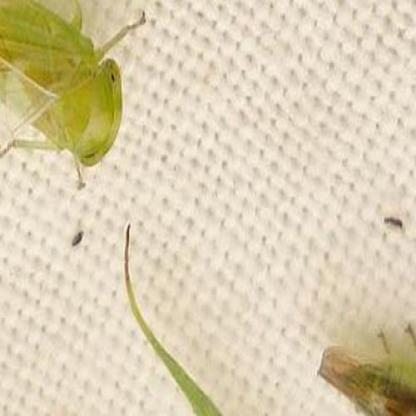green-leafhopper: (1, 0, 132, 184)
